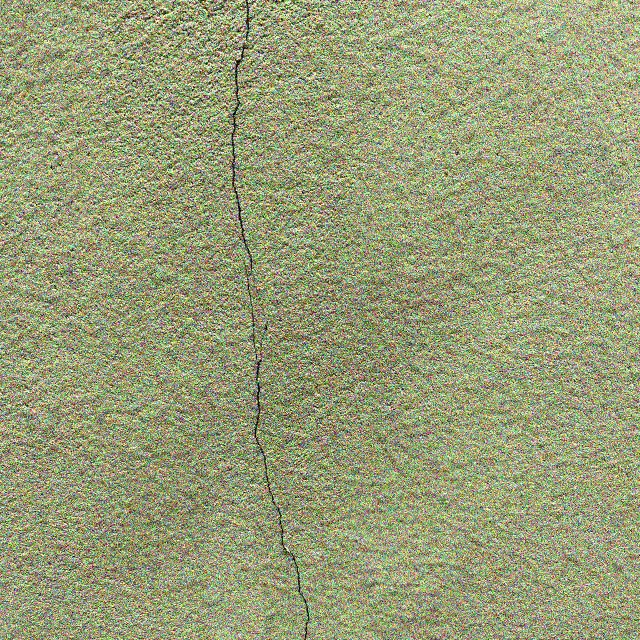SurfaceCrack: (195, 1, 348, 640)
